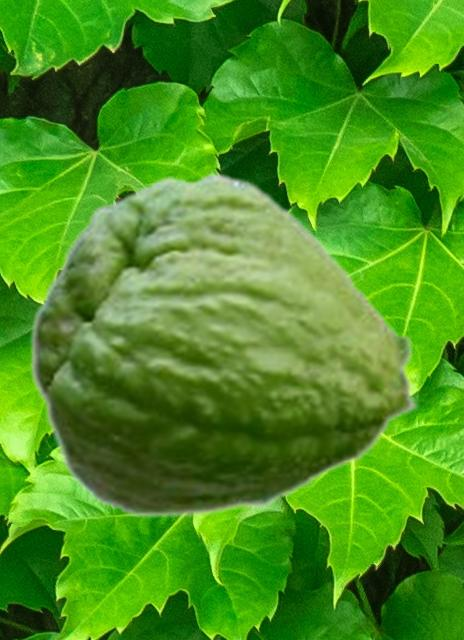sayote: (29, 171, 421, 519)
